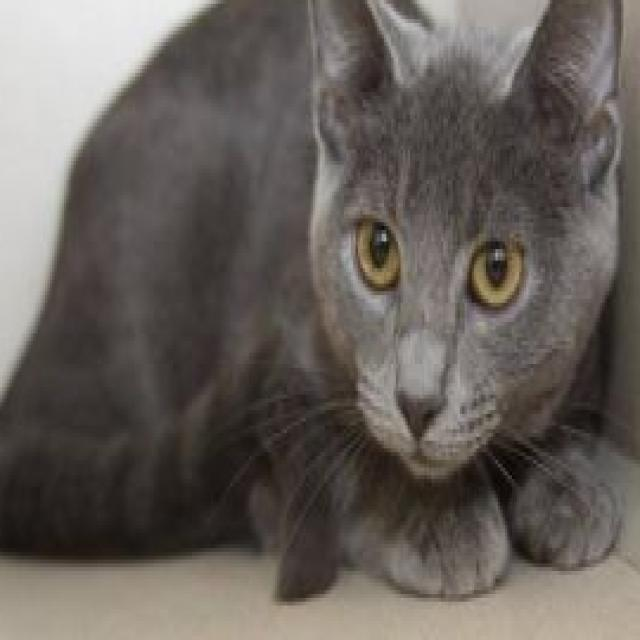Russian Blue: (0, 0, 628, 606)
